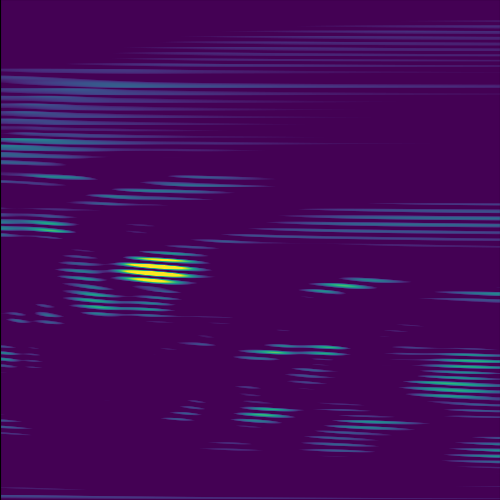semblance: (110, 251, 215, 286)
